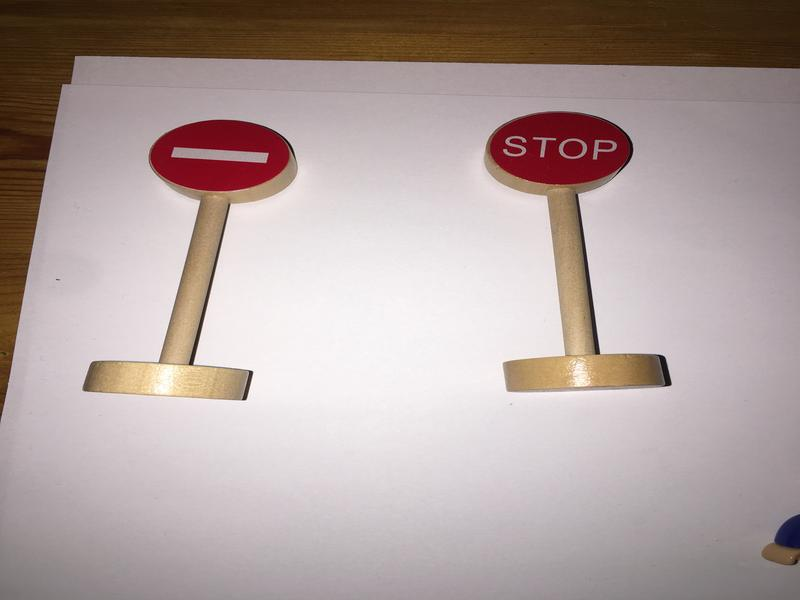Traffic_Sign_No_Entry: (151, 120, 290, 192)
Traffic_Sign_Stop: (489, 113, 633, 185)
